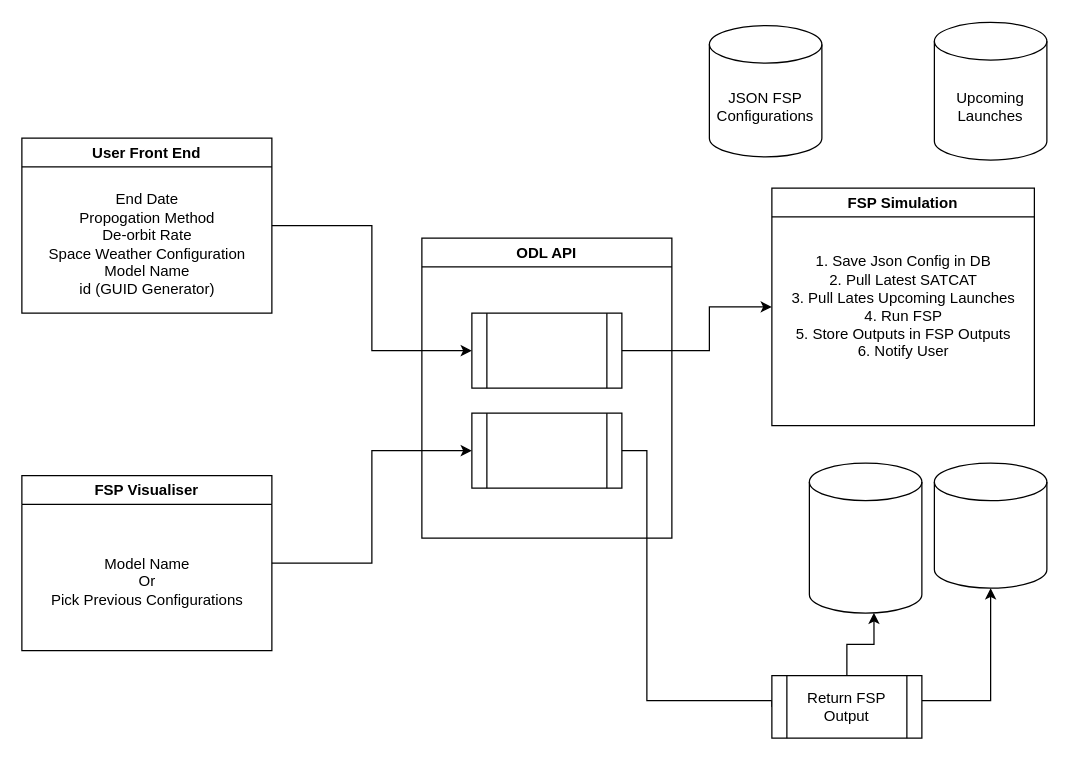
This 1069x760 diagram has some shape labels left out. The shapes that lost their labels are listed below. From the top down, each one's centre as x and y in pixels, then its label:
(x=546, y=350): /POST
(x=546, y=450): /GET
(x=865, y=537): SATCAT (To Date Satellite Database)
(x=990, y=525): FSP Outputs
